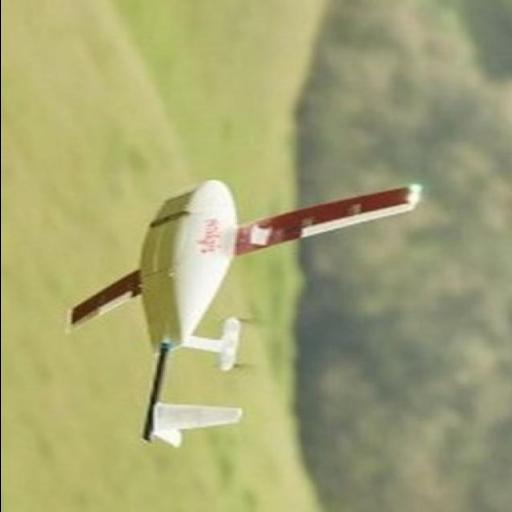uav: (54, 176, 428, 457)
